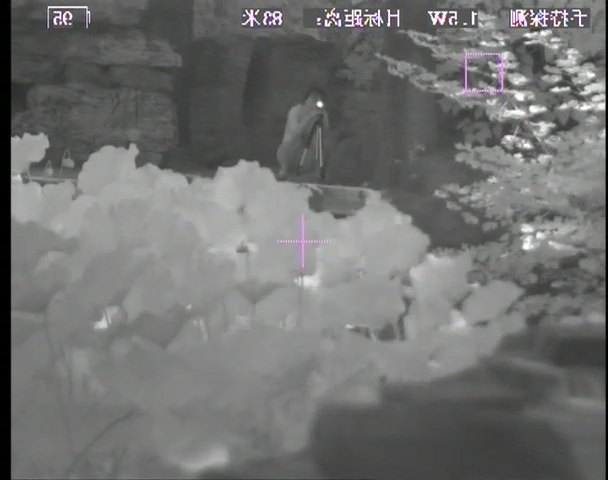my: (315, 100, 323, 109)
